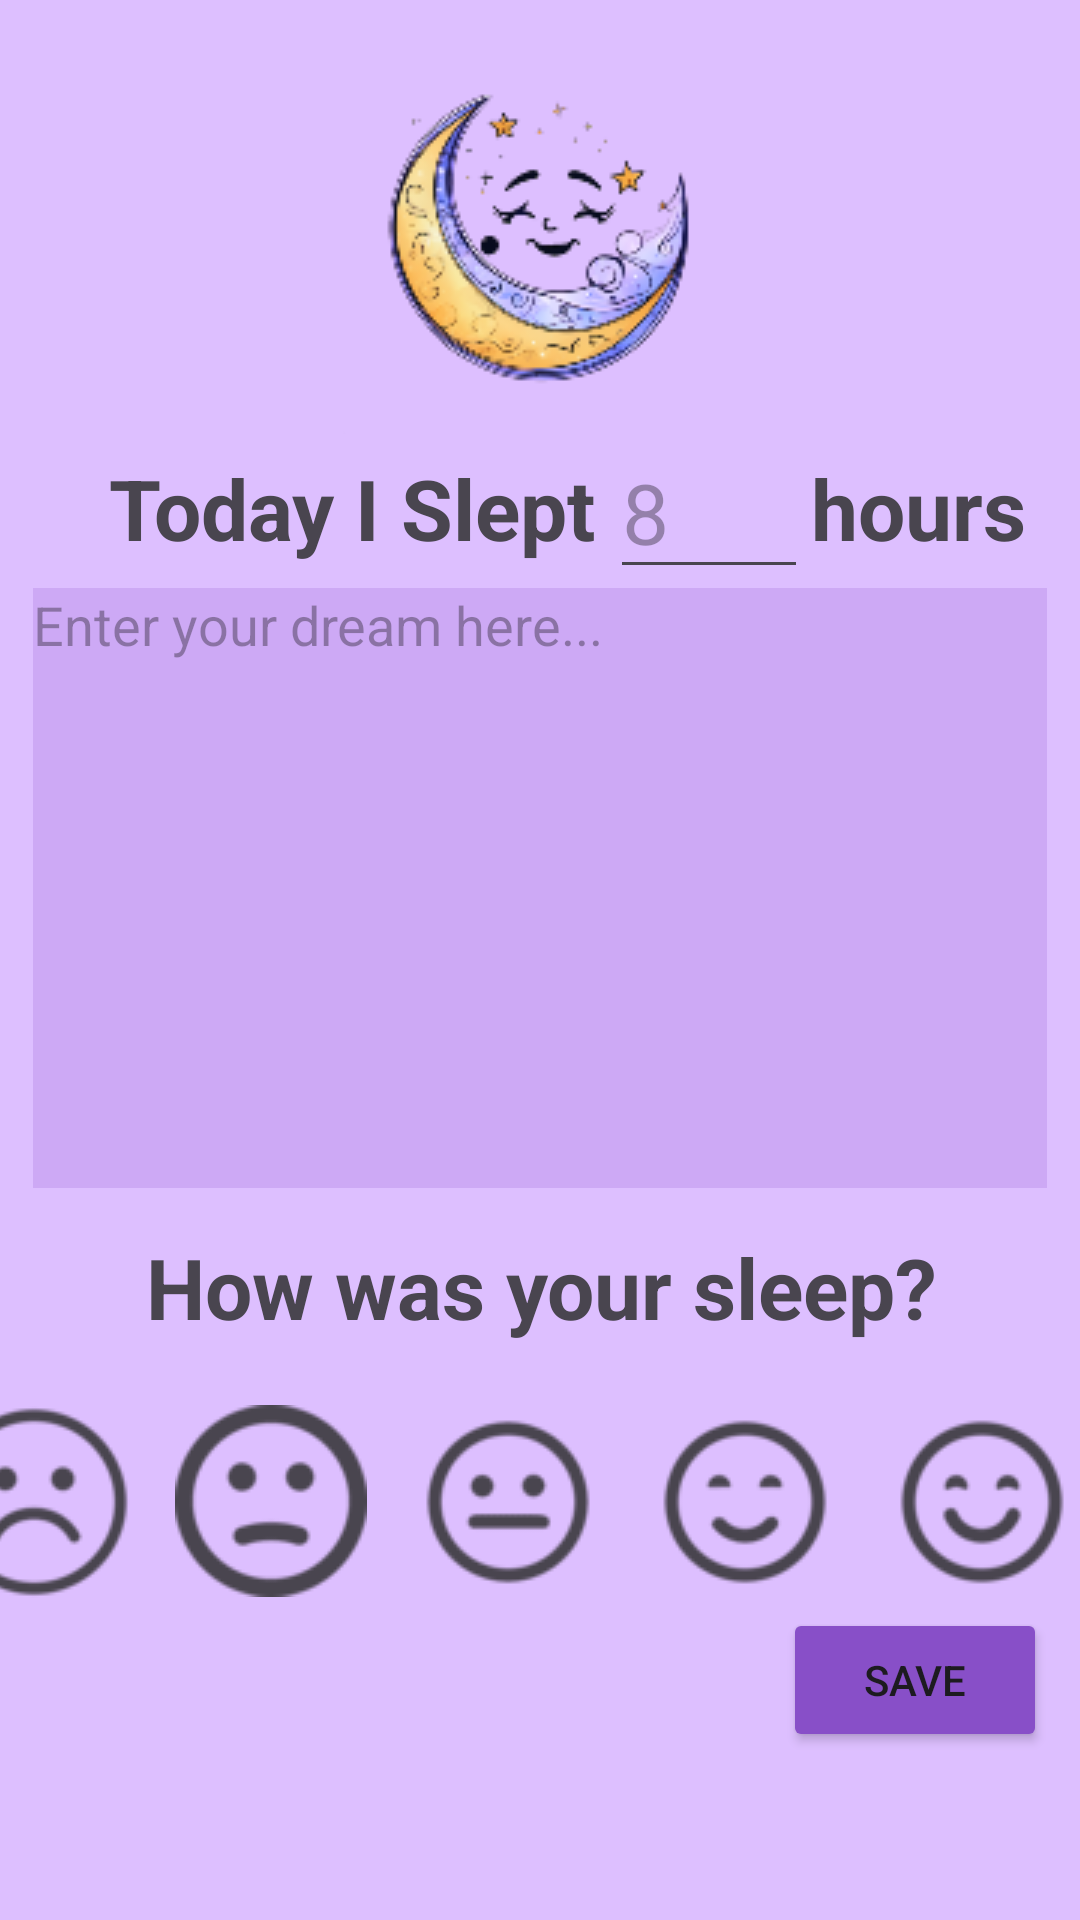

Icon bounding boxes for this 1080px x 1920px phone screenshot, format {"left": x1, "top": y1, "right": x2, "bottom": y2}:
happymoon: {"left": 387, "top": 94, "right": 689, "bottom": 381}
